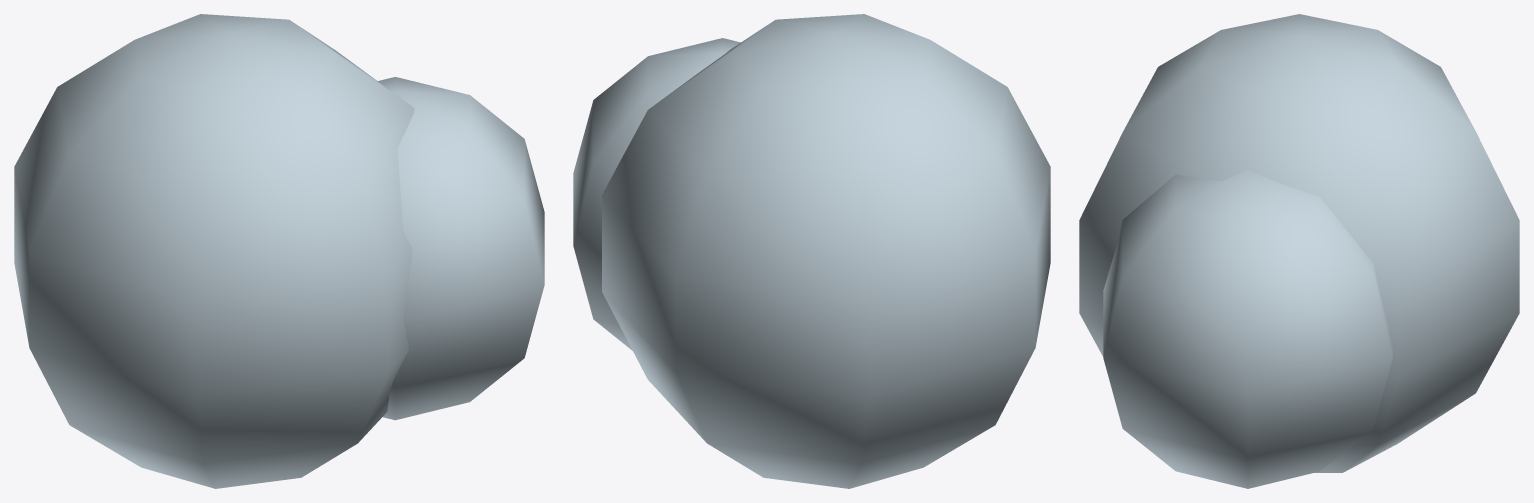
File: snowbank_large.glb
The picture shows the model from 3 angles, left to right: view 1: azimuth 30°, elevation 25°; view 2: azimuth 150°, elevation 25°; view 3: azimuth 270°, elevation 25°; orthographic projection. The views are drawn at different scales.
Bounding box in the file's own units: 2.13 × 1.8 × 1.71.
